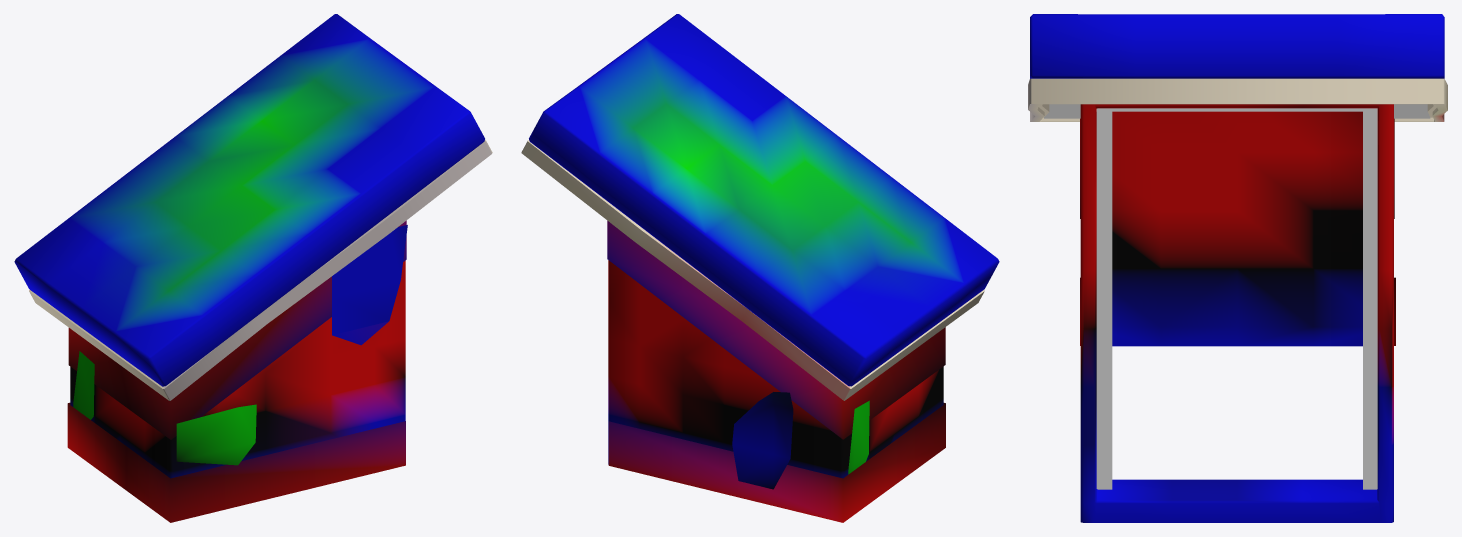
The model's file is ExtraBuilding_C_Snaps004.FBX.
The picture shows the model from 3 angles, left to right: view 1: azimuth 30°, elevation 25°; view 2: azimuth 150°, elevation 25°; view 3: azimuth 270°, elevation 25°; orthographic projection. The views are drawn at different scales.
Parts seen in each view (by area): view 1: Geometry_ExtraBuilding_C_LOD00, Geometry_Decal_B_LOD00, Geometry_Decal_C_LOD00; view 2: Geometry_ExtraBuilding_C_LOD00, Geometry_Decal_B_LOD00, Geometry_Decal_C_LOD00; view 3: Geometry_ExtraBuilding_C_LOD00, Geometry_WindowsFrame_LOD00.
Part boxes in pixels (<box>): Geometry_ExtraBuilding_C_LOD00: <box>14,14,492,478</box>; Geometry_Decal_B_LOD00: <box>67,220,406,522</box>; Geometry_Decal_C_LOD00: <box>73,225,407,465</box>; Geometry_ExtraBuilding_C_LOD00: <box>521,14,999,478</box>; Geometry_Decal_B_LOD00: <box>607,221,945,522</box>; Geometry_Decal_C_LOD00: <box>732,392,869,489</box>; Geometry_ExtraBuilding_C_LOD00: <box>1028,14,1447,522</box>; Geometry_WindowsFrame_LOD00: <box>1096,108,1377,489</box>.
Size of what is drawn, in the model's own units: 293 by 287 by 201.
